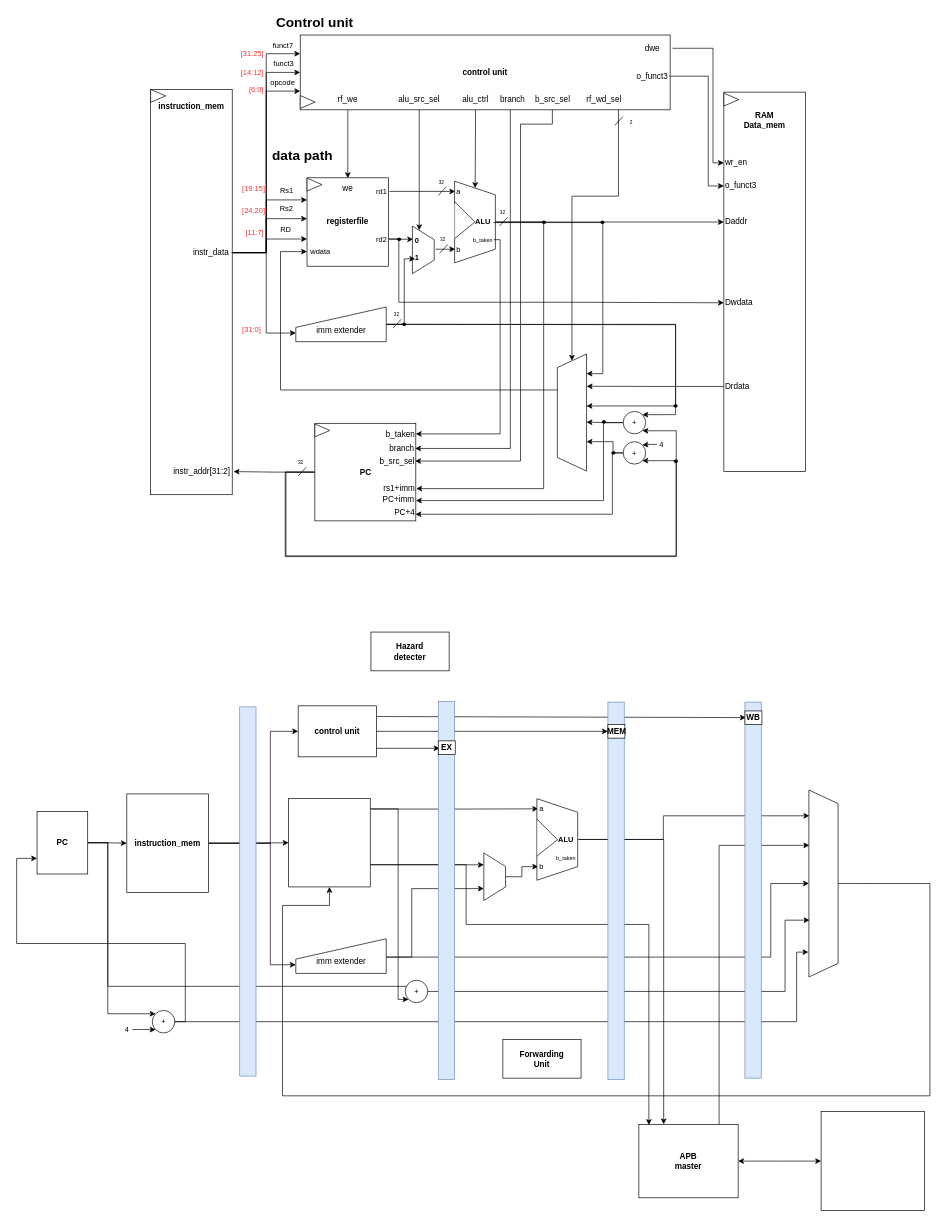
Image size: 947x1223. Some labels were removed from this diagram. The shapes that lost their labels are listed below. From the top down, each one's centre as x and y in pixels, then its label:
At (572,412): "ALU 0 dmem 1 imm 2 imm+pc 3 pc+4 4".
At (329,842): "register file".
At (872,1161): "slv ram".
